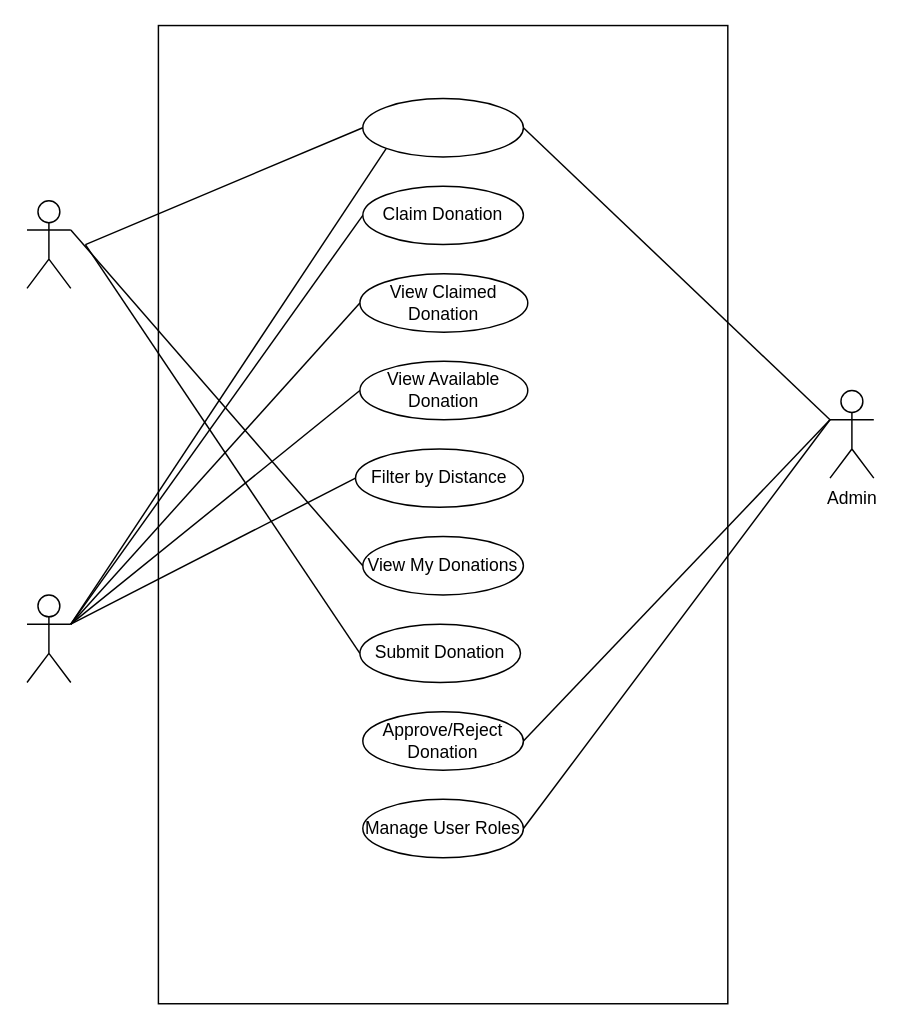
The diagram is 902 pixels wide and 1029 high, and some of its shapes have lost their labels. The shapes that lost their labels are listed below. From the top down, each one's box as (x1, y1, x2, y2) in pixels, then its label:
(361, 97, 523, 157): Login/Register
(26, 199, 71, 288): Donor
(26, 593, 71, 683): NGO
